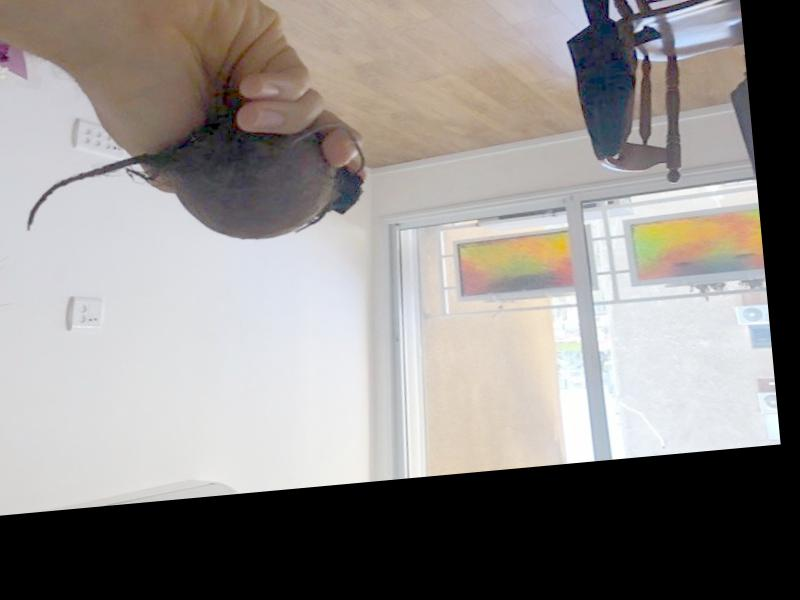Beet: (22, 115, 373, 258)
